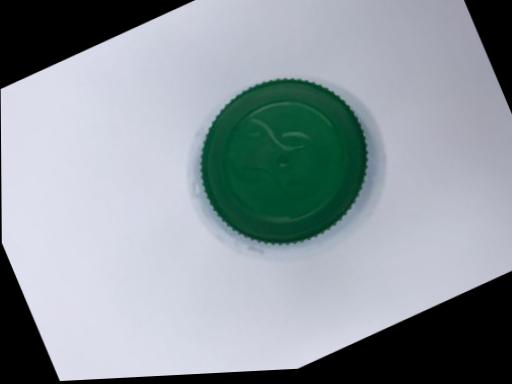plastic: (158, 62, 392, 289)
